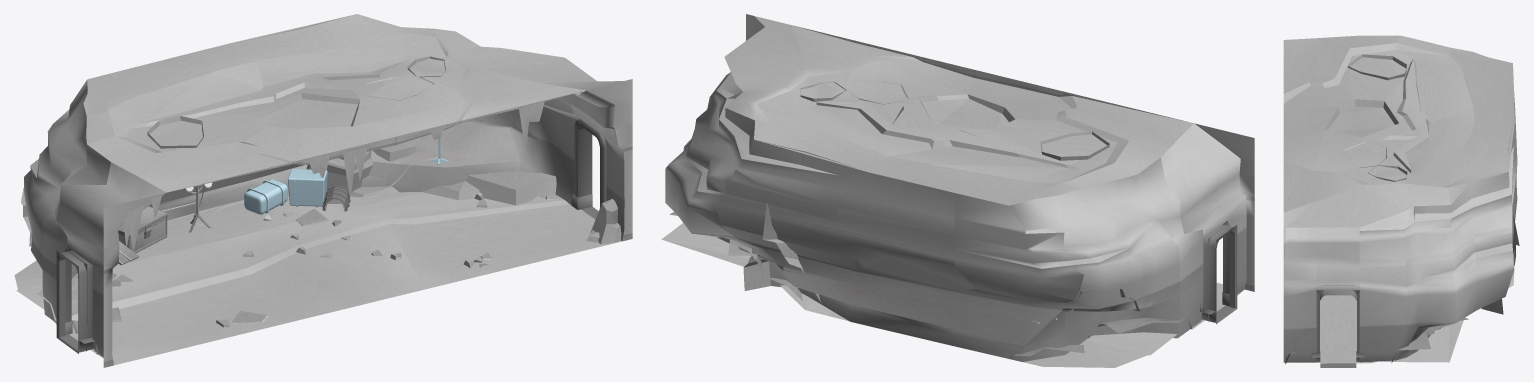
File: MSH_QuestCave_L1_R2_optimized.fbx
3 renders of one model, left to right at view 1: azimuth 30°, elevation 25°; view 2: azimuth 150°, elevation 25°; view 3: azimuth 270°, elevation 25°, orthographic. The views are drawn at different scales.
Parts seen in each view (by area): view 1: lightmap1, lightmap0; view 2: lightmap1, lightmap0; view 3: lightmap1, lightmap0.
Boxes of the visible parts, <box> form: lightmap1: <box>14,14,632,367</box>; lightmap0: <box>21,119,621,354</box>; lightmap1: <box>661,14,1254,367</box>; lightmap0: <box>743,203,1240,337</box>; lightmap1: <box>1283,35,1517,363</box>; lightmap0: <box>1285,216,1519,367</box>.
Bounding box in the file's own units: 20.63 × 6.37 × 9.35.
